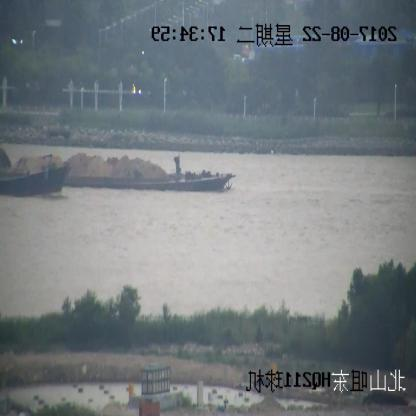Fishing Boat: (0, 160, 70, 197)
